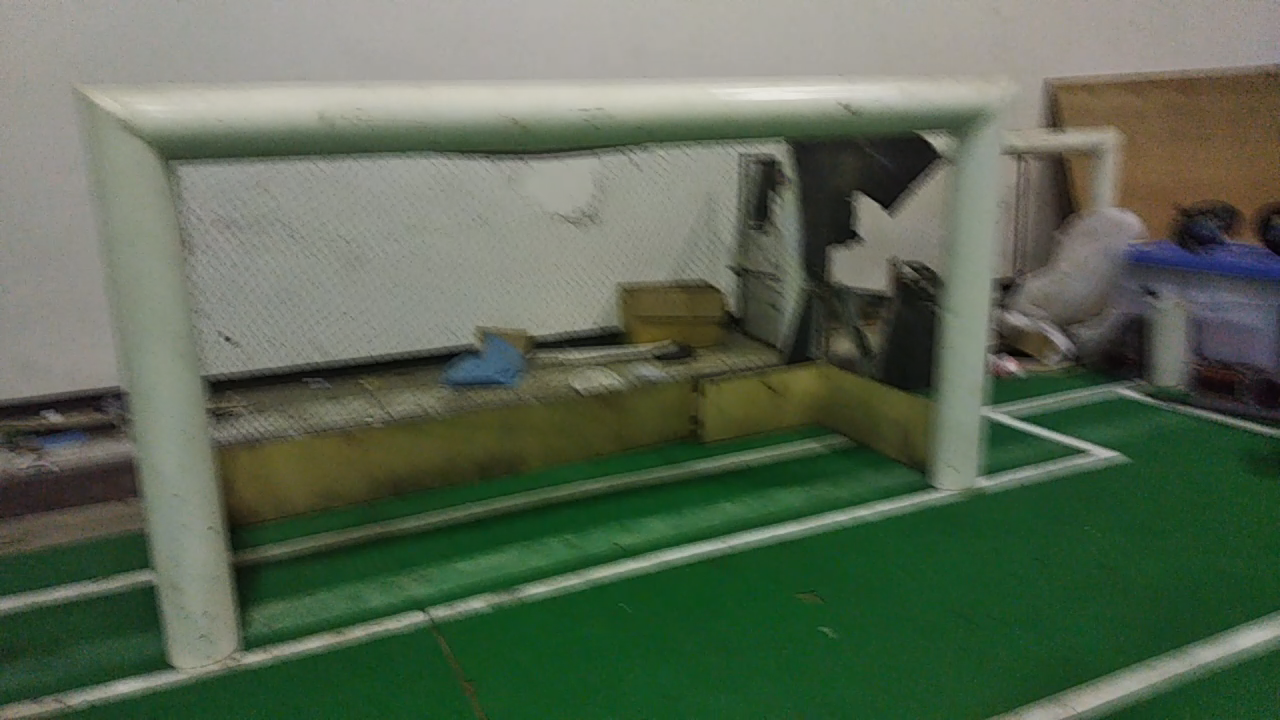gawang: (58, 62, 1038, 686)
